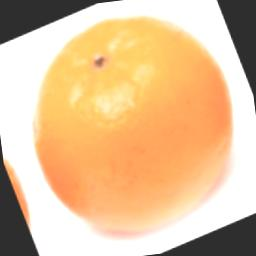Orange Ripe: (8, 0, 253, 245)
